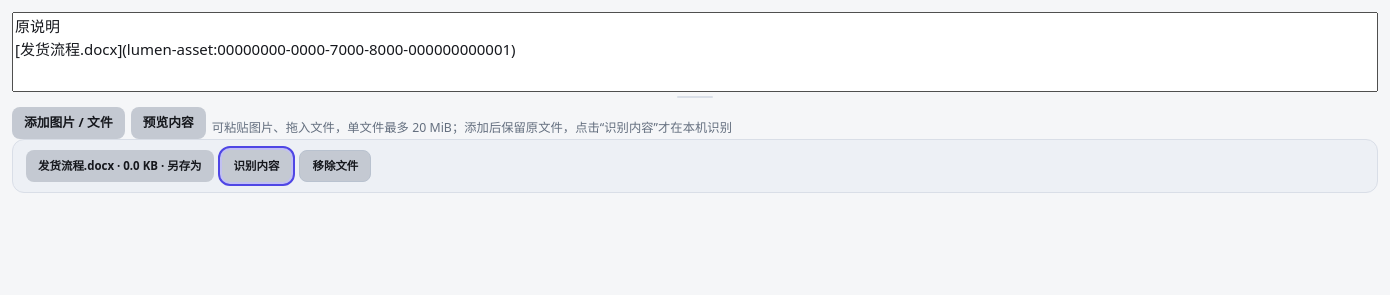
Test case: 识别正文超过步骤剩余额度时保留原文件，完整识别结果存成可访问文件
Earlier steps of the test are not shown.
Click the button "识别内容": [257, 166] box [222,150,292,182]
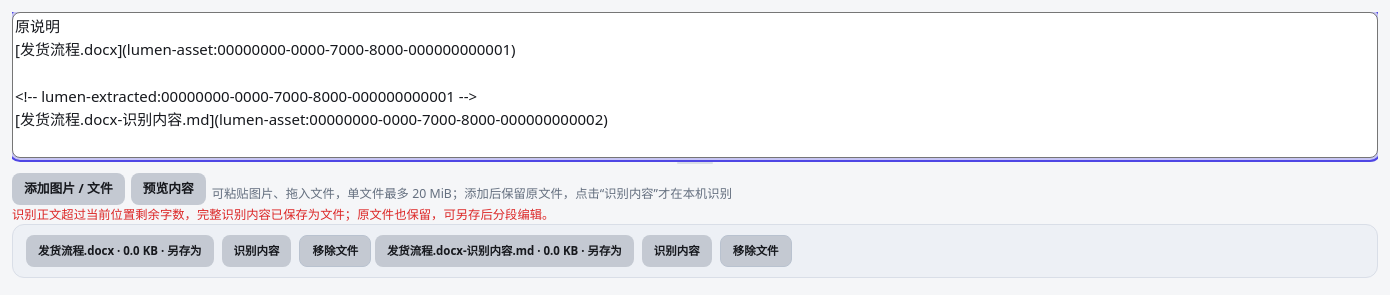
Expected: the message "识别正文超过当前位置剩余字数，完整识别内容已保存为文件；原文件也保留，可另存后分段编辑。" is shown, [12,206,554,223]
